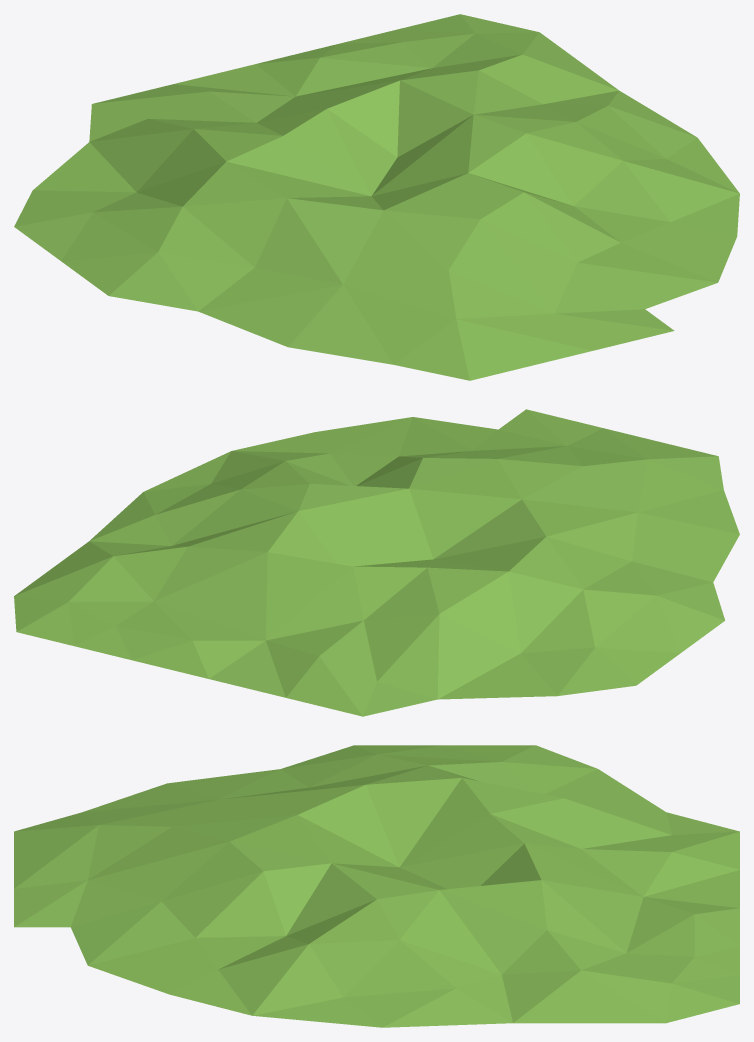
Rendered from MT_Mountain_S_a_14_LOD.fbx.
3 renders of one model, top to bottom at view 1: azimuth 30°, elevation 25°; view 2: azimuth 150°, elevation 25°; view 3: azimuth 270°, elevation 25°, orthographic. The views are drawn at different scales.
Visible parts, largest first — view 1: MT_Mountain_S_a_14_LOD0; view 2: MT_Mountain_S_a_14_LOD0; view 3: MT_Mountain_S_a_14_LOD0.
Part boxes in pixels (x1,y1,x2,y2): MT_Mountain_S_a_14_LOD0: [14, 14, 739, 380]; MT_Mountain_S_a_14_LOD0: [14, 409, 739, 716]; MT_Mountain_S_a_14_LOD0: [14, 745, 739, 1027].
Size of what is drawn, in the model's own units: 2305 by 185 by 2500.
